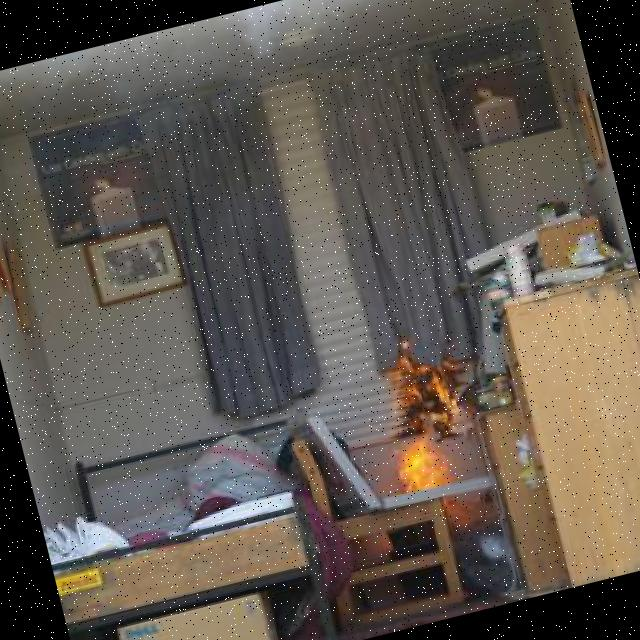fire: (389, 428, 459, 524)
